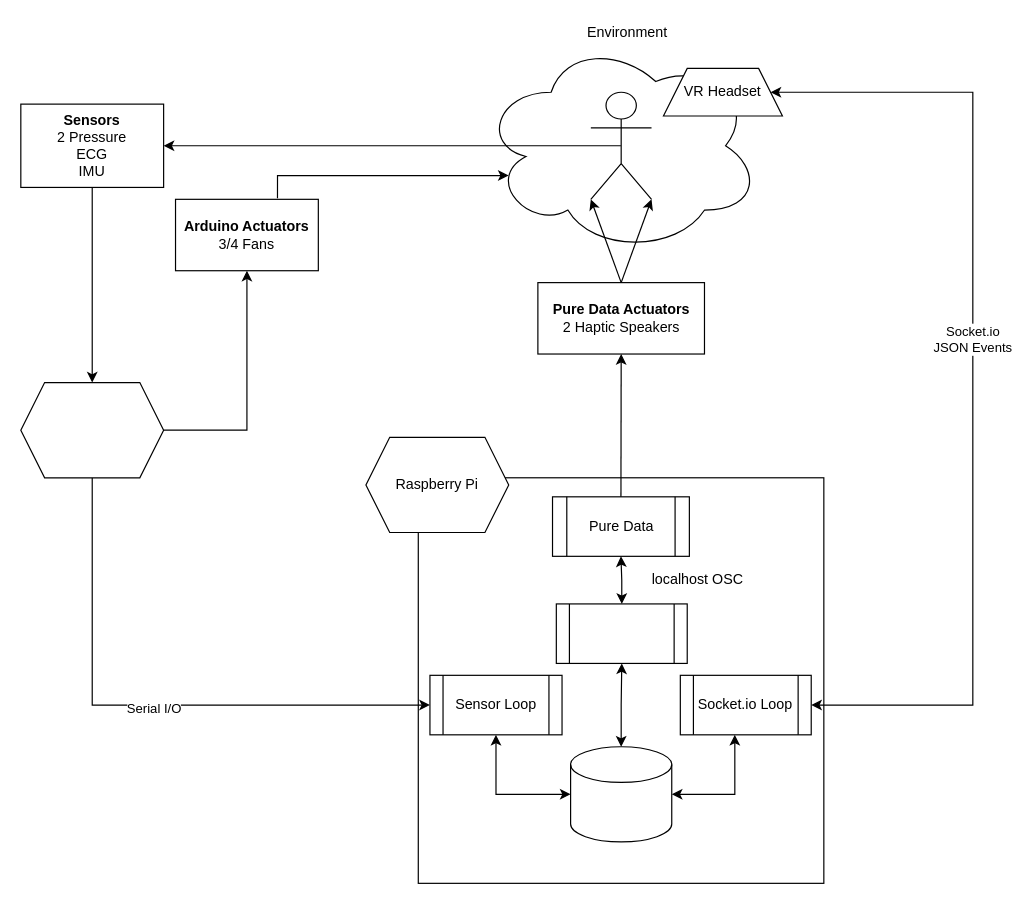
Some shapes in this 1032 by 904 pixel diagram are drawn without their labels. Here are the shapes that lost their labels. From the top down, the centre of each, then its label:
At point (621, 145): "User".
At point (92, 429): "Teensy 3.6 Arduino Uno".
At point (621, 633): "OSC Loop".
At point (620, 794): "Shared Arduino Model Object".
